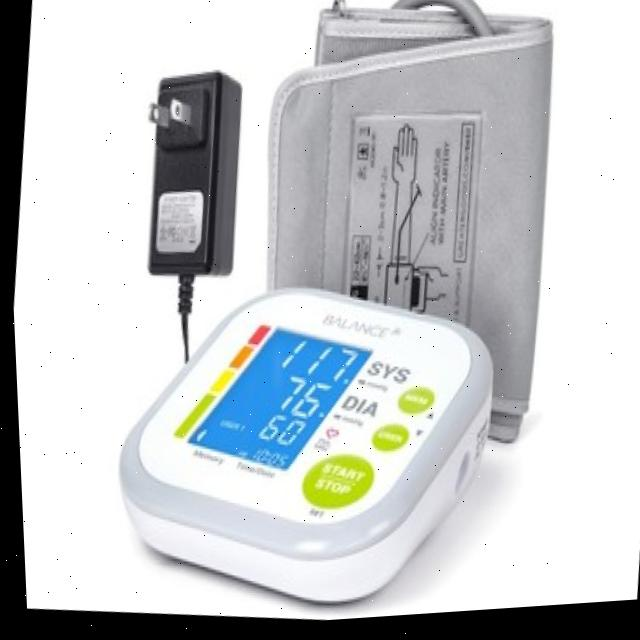dia: (260, 370, 329, 434)
pul: (243, 406, 305, 462)
ssd: (183, 298, 370, 504)
sys: (266, 330, 362, 399)
